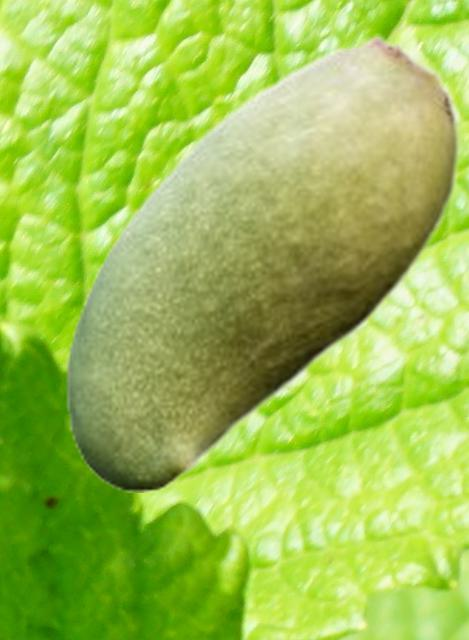green_mango: (64, 33, 460, 491)
